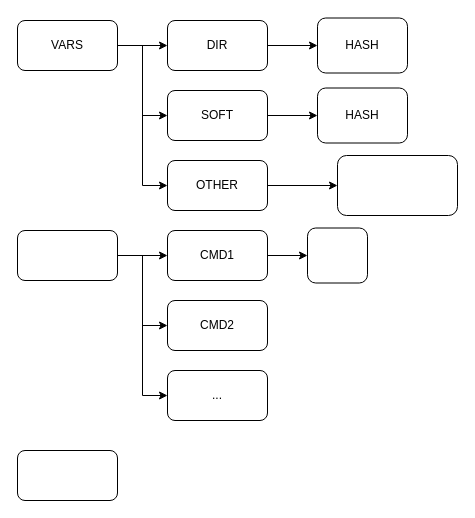
Image size: 475x518. Some labels were removed from this diagram. Each missing label, with the centre of its shape:
"ARRAY" goes at (x=337, y=255).
"ARRY, HASH, SCALAR, ..." goes at (x=397, y=185).
"CMD" goes at (x=67, y=255).
"MOD" goes at (x=67, y=475).
